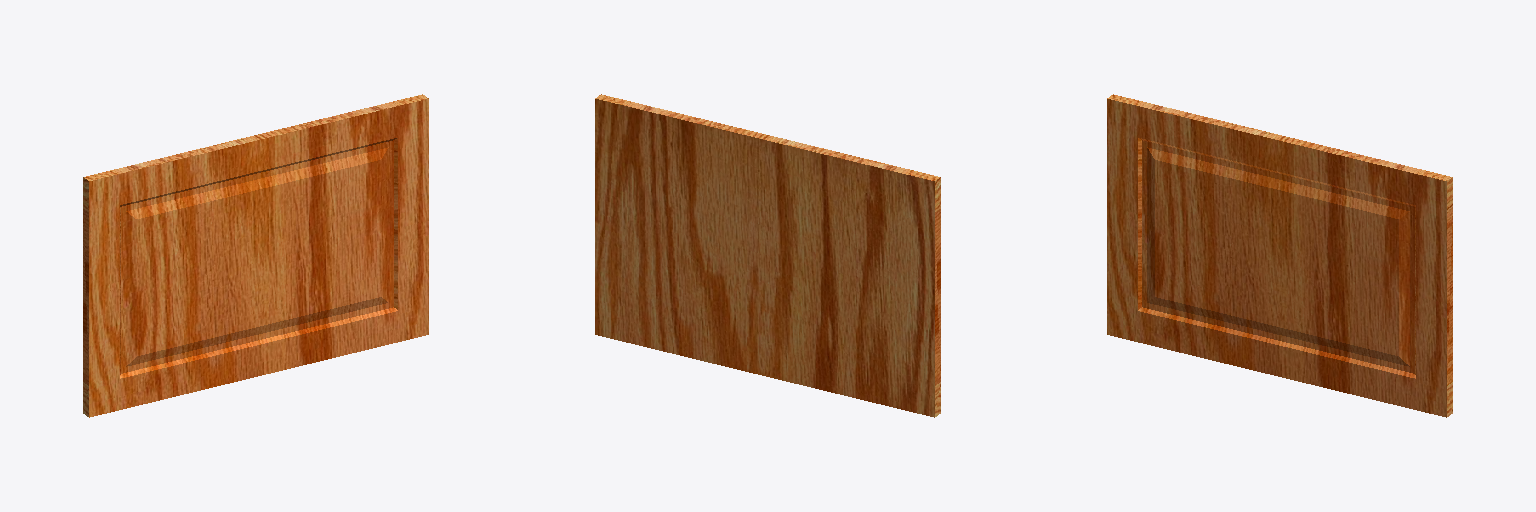
3 renders of one model, left to right at view 1: azimuth 30°, elevation 25°; view 2: azimuth 150°, elevation 25°; view 3: azimuth 330°, elevation 25°, orthographic.
Visible parts, largest first — view 1: model_model.004; view 2: model_model.004; view 3: model_model.004.
Part boxes in pixels (x1,y1,x2,y2): model_model.004: (83, 94, 428, 417); model_model.004: (595, 94, 940, 417); model_model.004: (1107, 94, 1452, 417).
Size of the model in its own units: 0.597 by 0.397 by 0.018.
1 materials, 1 textured.